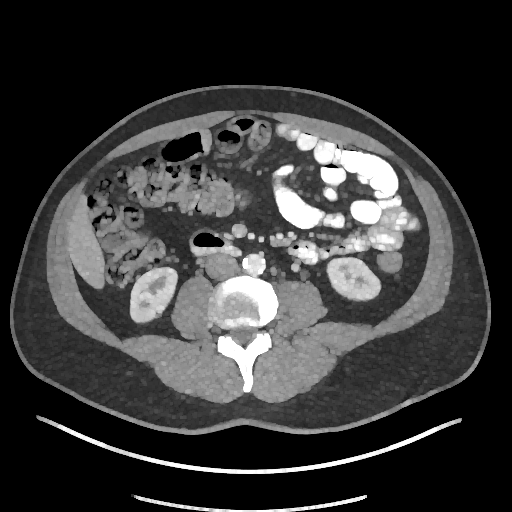Lesion: (151, 308, 163, 319)
